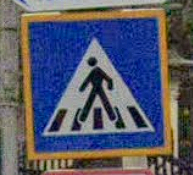trecere_pietoni: (15, 11, 174, 156)
